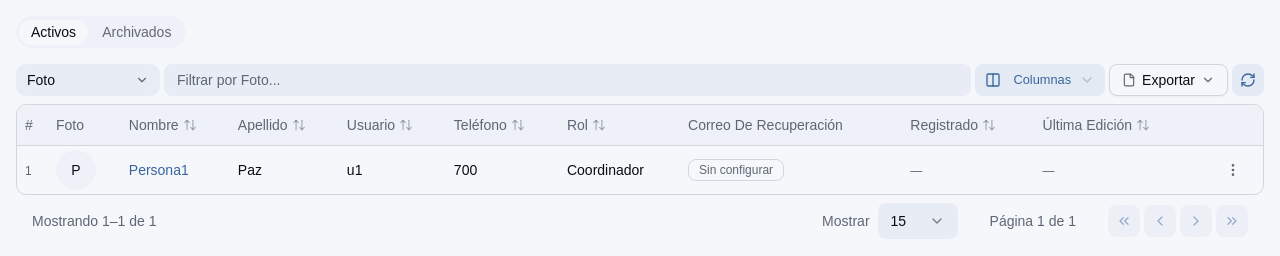
bringing an archived account back › is not offered to somebody who may only look
Step 1. Click the tab "Archivados" → [137, 32], box top-left (89, 18), bottom-right (184, 46)
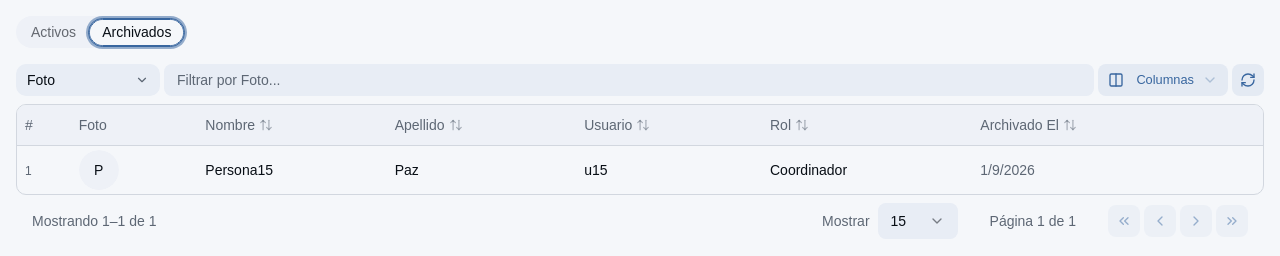
Expected: the text "Persona15" is shown, top-left (197, 145), bottom-right (387, 194)
